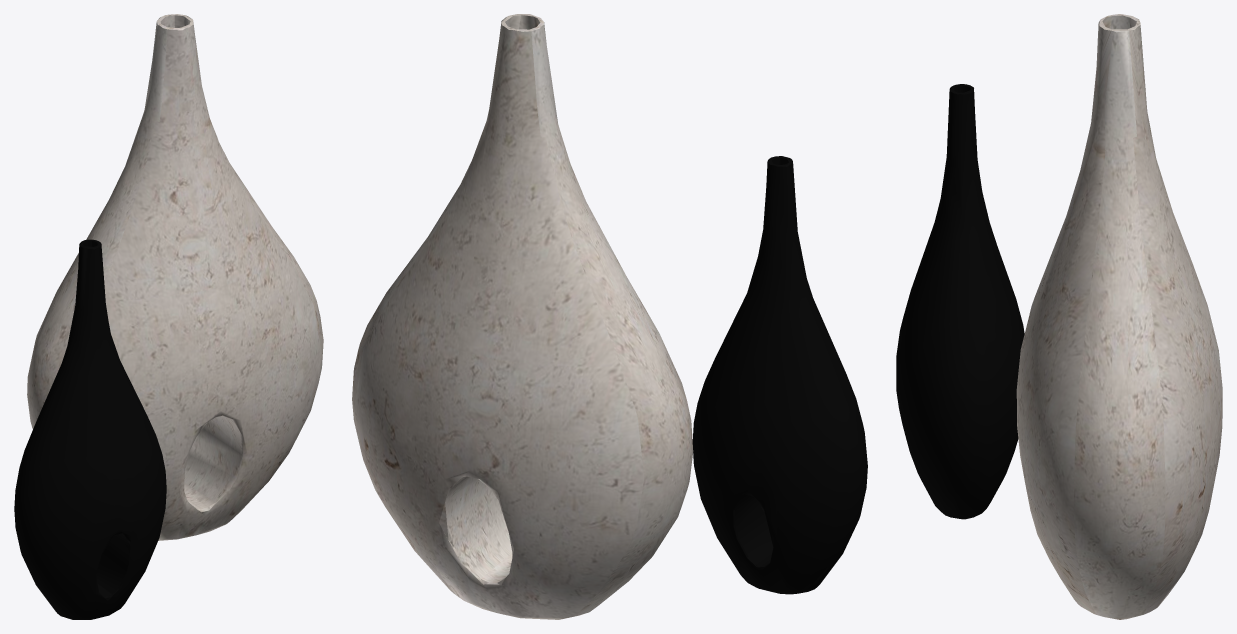
File: Vases.FBX
3 renders of one model, left to right at view 1: azimuth 30°, elevation 25°; view 2: azimuth 150°, elevation 25°; view 3: azimuth 270°, elevation 25°, orthographic. The views are drawn at different scales.
Visible parts, largest first — view 1: Vase1, Vase2; view 2: Vase1, Vase2; view 3: Vase1, Vase2.
Boxes of the visible parts, x1,y1,x2,y2 form: Vase1: (27, 14, 323, 540); Vase2: (14, 239, 166, 619); Vase1: (352, 14, 693, 619); Vase2: (692, 156, 867, 594); Vase1: (1016, 14, 1222, 619); Vase2: (896, 84, 1024, 519).
Bounding box in the file's own units: 34.5 × 44.93 × 23.43.
1 material, 1 textured.
